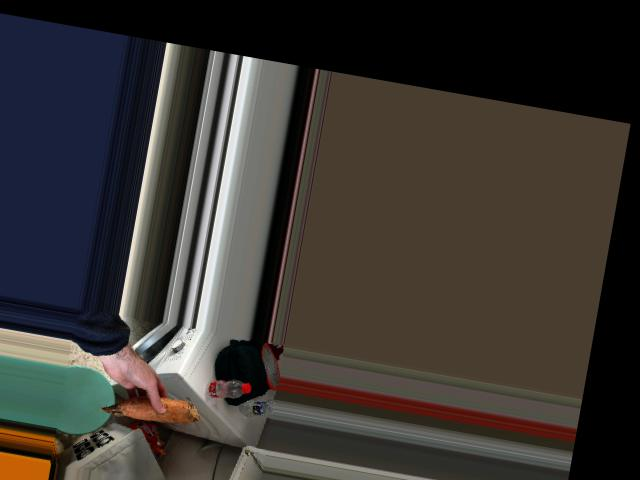sweet_potato: (101, 382, 206, 436)
